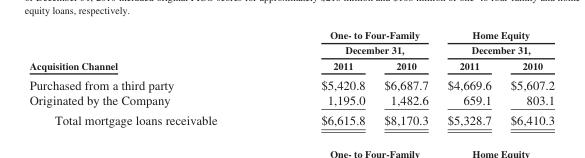table: (28, 28, 553, 126)
table column: (28, 28, 268, 126), (268, 28, 374, 126), (374, 28, 437, 126), (437, 28, 500, 126), (500, 28, 553, 126)
table column header: (28, 28, 553, 74)
table row: (28, 28, 553, 57), (28, 91, 553, 109), (28, 57, 553, 74), (28, 74, 553, 91), (28, 109, 553, 126)
table spanning cell: (28, 28, 268, 74), (268, 28, 437, 57), (437, 28, 553, 57)
